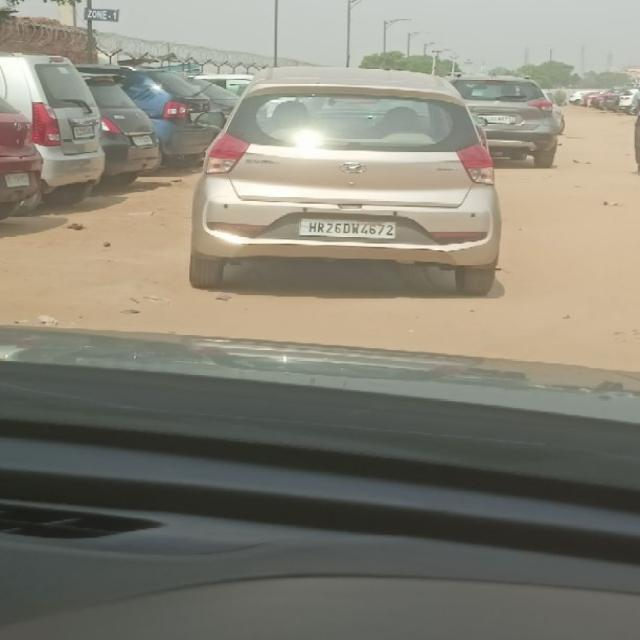license_plate: (297, 218, 396, 238)
